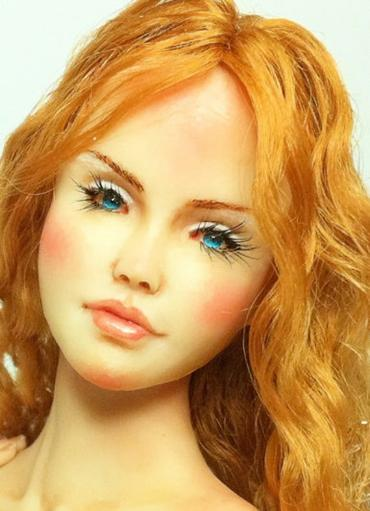left_eye: (185, 228, 244, 262)
left_lip_corner: (151, 326, 172, 344)
right_eye: (83, 190, 130, 217)
right_lip_corner: (79, 300, 99, 320)
